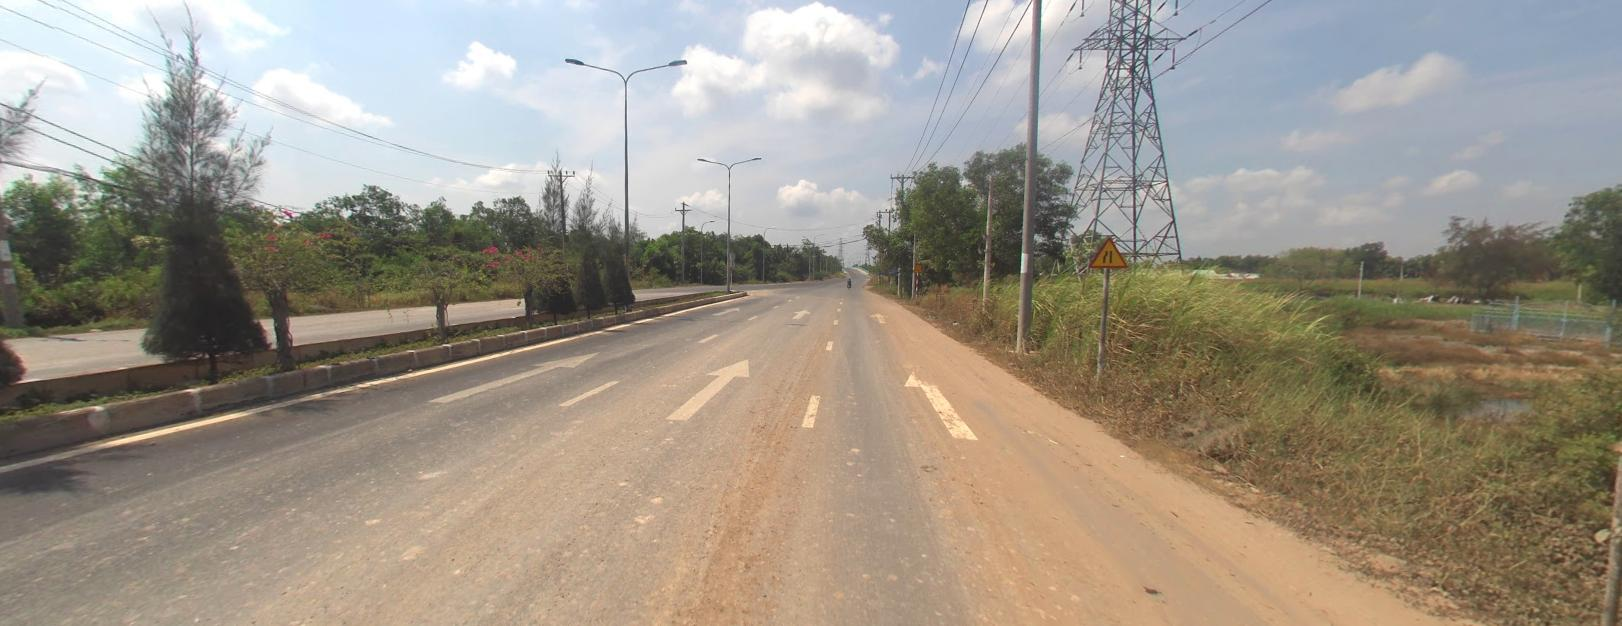Nguy hiem: (1090, 235, 1127, 265), (912, 261, 922, 270)
